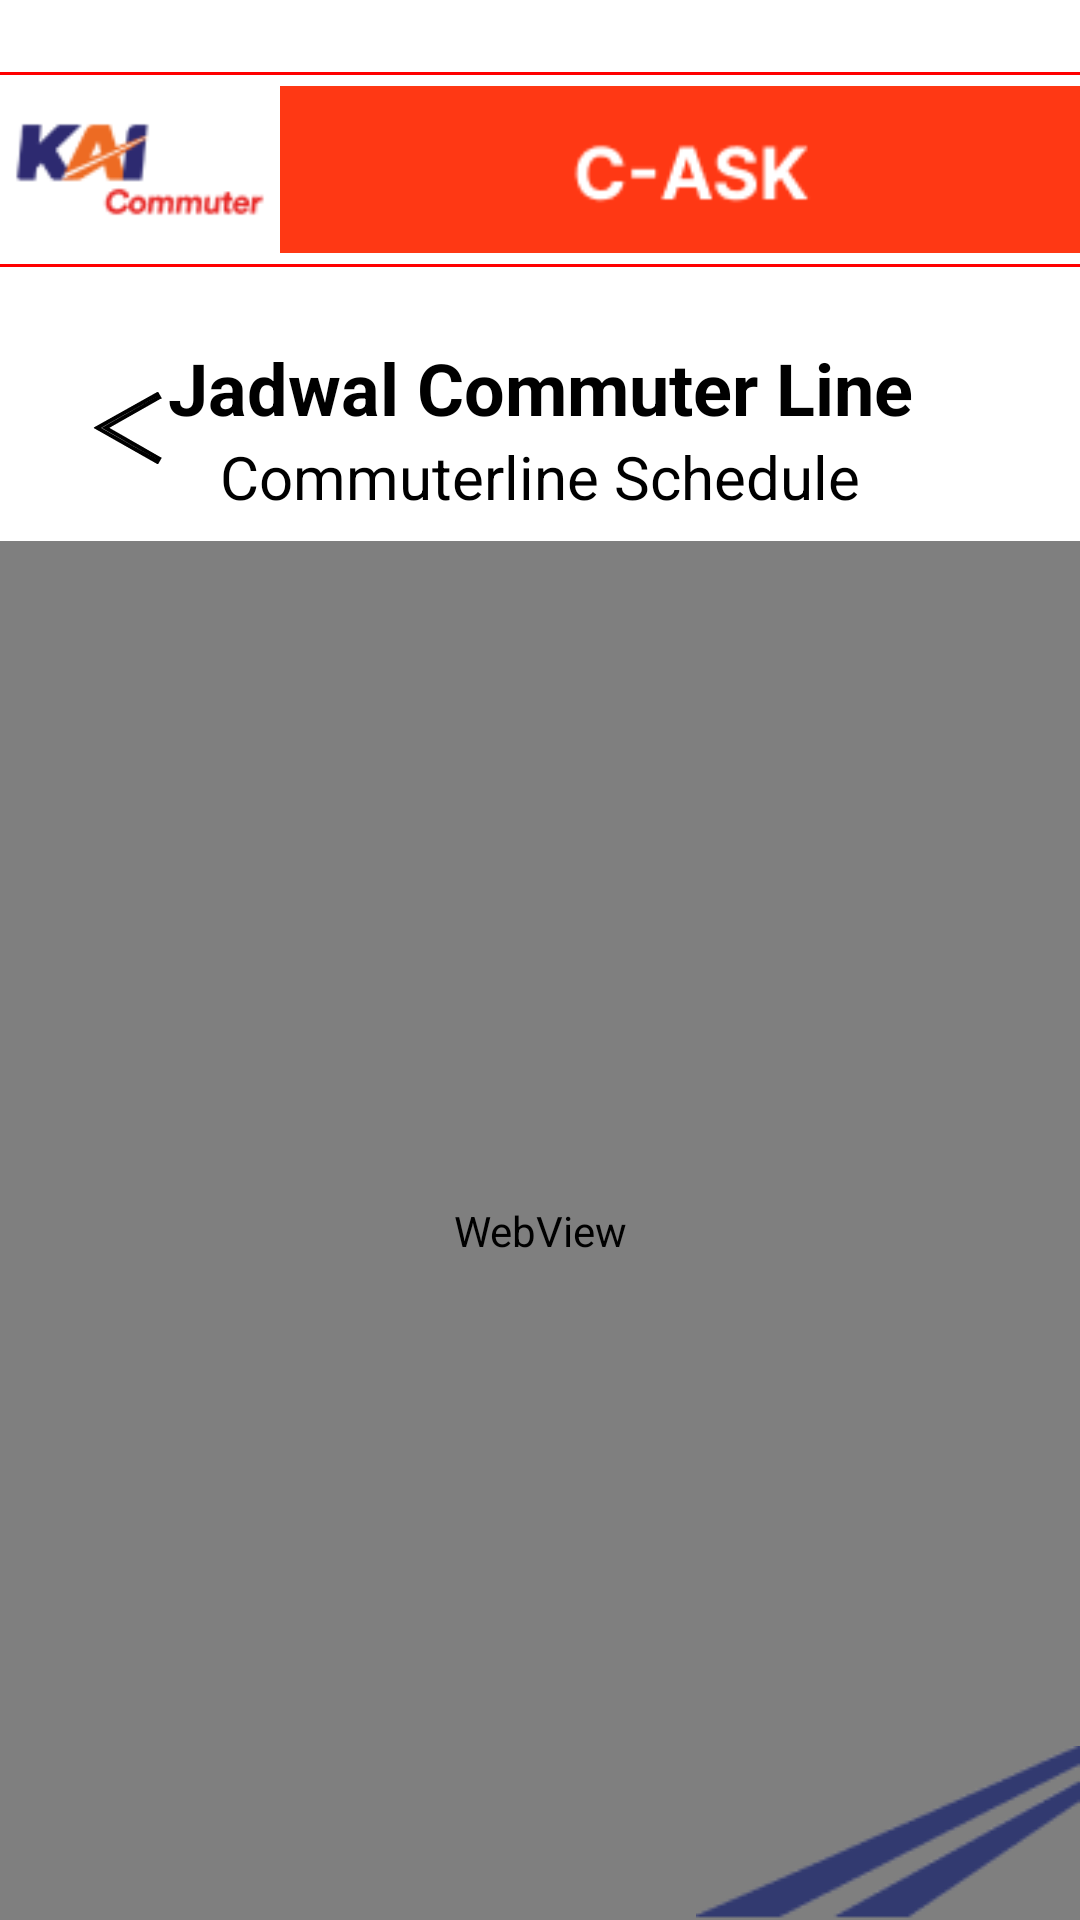

Locate icon controls on the screen. Image size 1080px×1920px, boxes as [x1, y1, x2, y2].
arrow back: [94, 392, 162, 464]
